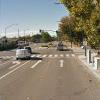Crosswalk: (34, 45, 80, 65)
